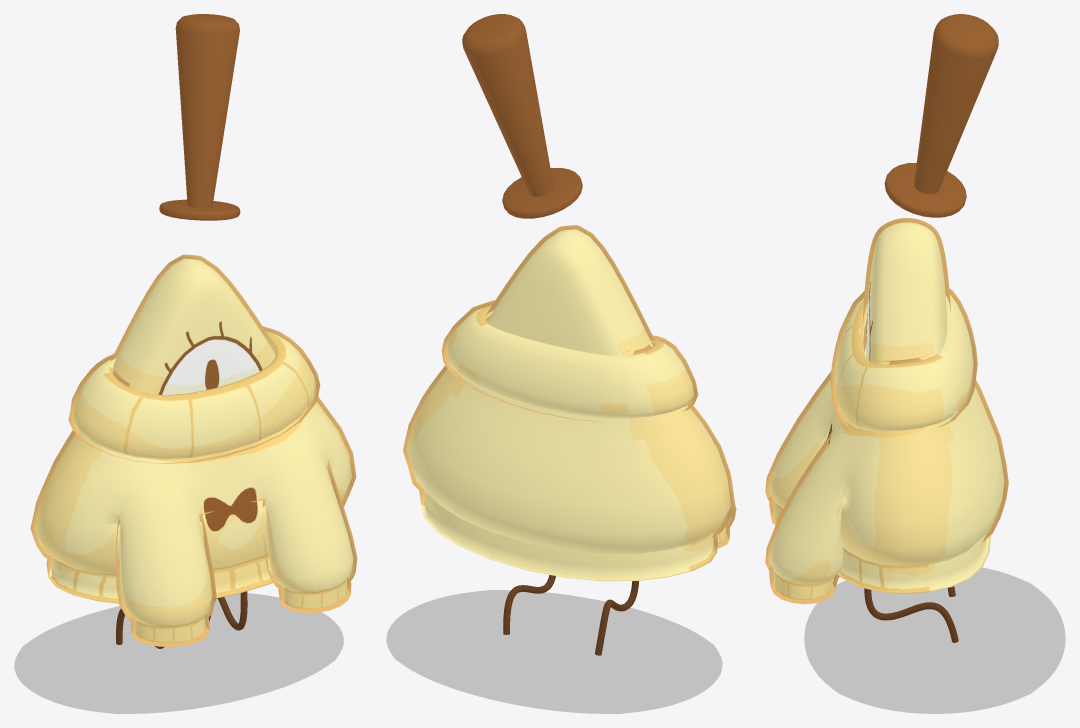
File: bill.glb
3 views of the same model, side by side, from view 1: azimuth 30°, elevation 25°; view 2: azimuth 150°, elevation 25°; view 3: azimuth 270°, elevation 25° (orthographic). The views are drawn at different scales.
Parts seen in each view (by area): view 1: Cylinder, Plane, Cylinder.001, Circle.002, Circle.003, NurbsPath.001; view 2: Cylinder, Plane, Cylinder.001, Circle.002, Circle.003, NurbsPath, NurbsPath.001; view 3: Cylinder, Plane, Cylinder.001, Circle.003, Circle.002, NurbsPath.001.
Part boxes in pixels (box(x1,y1,x2,y2)): Cylinder: box(30, 397, 357, 646); Plane: box(14, 593, 343, 713); Cylinder.001: box(68, 326, 320, 463); Circle.002: box(110, 254, 275, 395); Circle.003: box(159, 14, 240, 220); NurbsPath.001: box(209, 591, 247, 630); Cylinder: box(403, 365, 736, 581); Plane: box(386, 590, 722, 713); Cylinder.001: box(441, 300, 698, 422); Circle.002: box(485, 225, 655, 355); Circle.003: box(462, 14, 582, 218); NurbsPath: box(595, 581, 638, 655); NurbsPath.001: box(503, 575, 555, 634); Cylinder: box(765, 371, 1008, 604); Plane: box(804, 567, 1065, 713); Cylinder.001: box(830, 288, 977, 434); Circle.003: box(884, 14, 998, 217); Circle.002: box(862, 218, 950, 364); NurbsPath.001: box(864, 588, 958, 642).
Size of the model in its own units: 1.74 by 3.31 by 1.41.
Materials: 5 (1 with a texture image).
